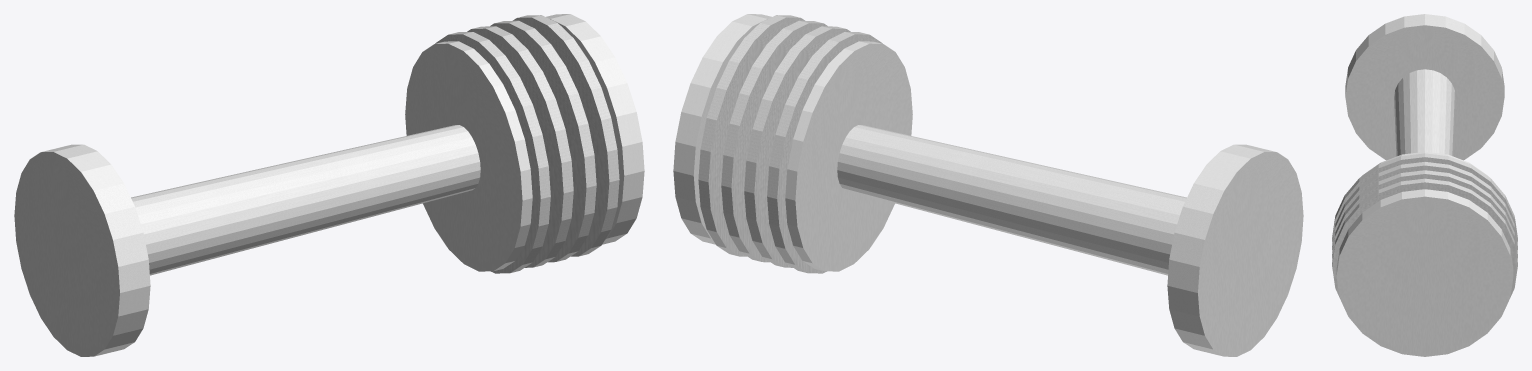
The model's file is nauticalpierbollard.obj.
The picture shows the model from 3 angles, left to right: view 1: azimuth 30°, elevation 25°; view 2: azimuth 150°, elevation 25°; view 3: azimuth 270°, elevation 25°; orthographic projection. The views are drawn at different scales.
Visible parts, largest first — view 1: Metal, Base, Trim; view 2: Metal, Base, Trim; view 3: Metal, Base, Trim.
Boxes of the visible parts, left/top/right/bottom form: Metal: left=131, top=14, right=644, bottom=275; Base: left=14, top=144, right=150, bottom=356; Trim: left=435, top=15, right=619, bottom=273; Metal: left=673, top=14, right=1186, bottom=275; Base: left=1167, top=144, right=1303, bottom=356; Trim: left=698, top=15, right=882, bottom=273; Metal: left=1336, top=69, right=1513, bottom=356; Base: left=1345, top=14, right=1504, bottom=160; Trim: left=1332, top=153, right=1517, bottom=296.
Size of the model in its own units: 1.02 by 0.42 by 0.42.
